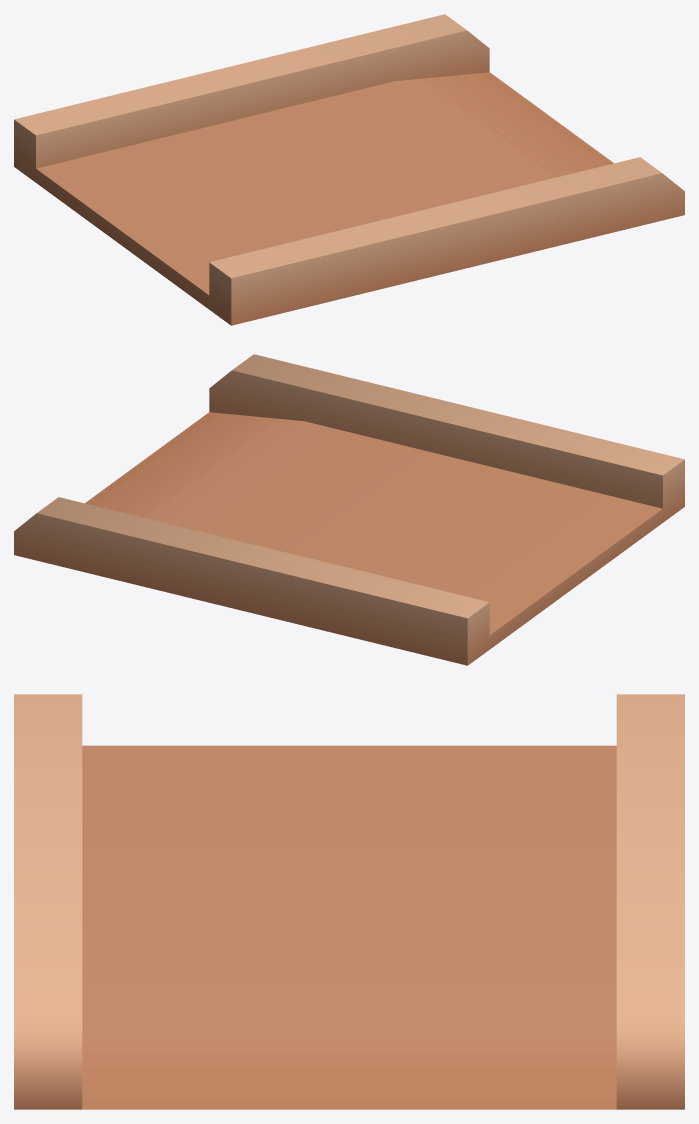
The model's file is bridge-draw.fbx.
3 views of the same model, one above another, from view 1: azimuth 30°, elevation 25°; view 2: azimuth 150°, elevation 25°; view 3: azimuth 270°, elevation 25° (orthographic). The views are drawn at different scales.
Parts seen in each view (by area): view 1: bridge-draw; view 2: bridge-draw; view 3: bridge-draw.
Boxes of the visible parts, box(x1,y1,x2,y2) form: bridge-draw: box(14, 14, 684, 325); bridge-draw: box(14, 354, 684, 665); bridge-draw: box(14, 694, 684, 1109).
Size of the model in its own units: 1 by 0.8311 by 0.1.
